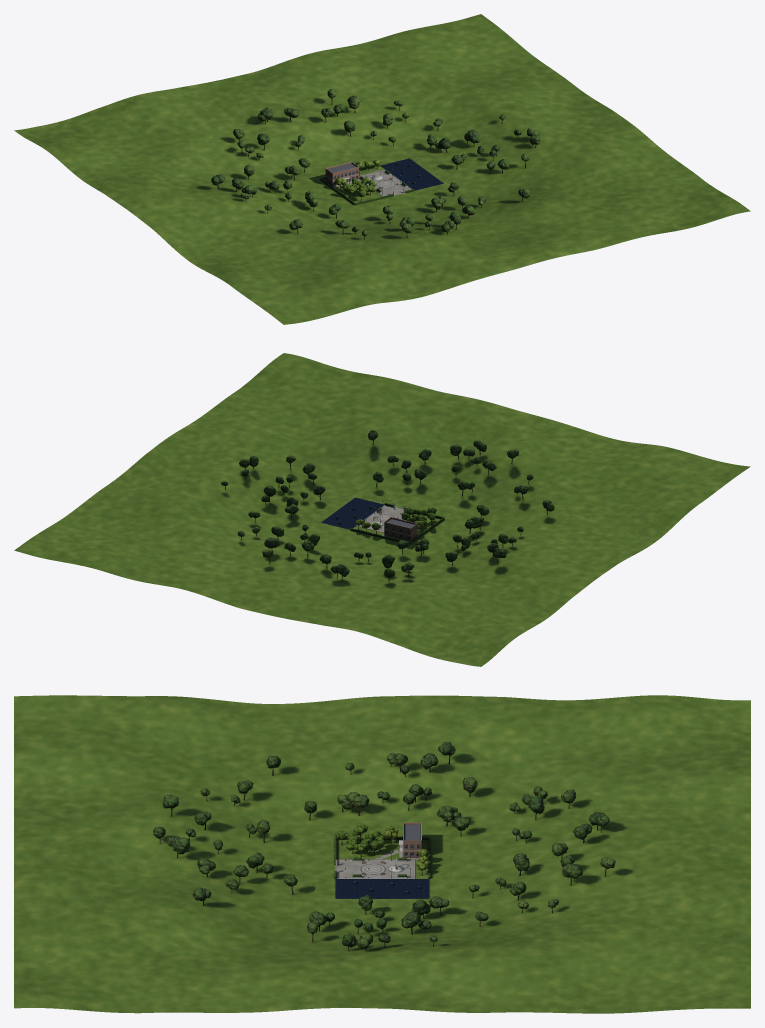
The model's file is plaza.glb.
3 views of the same model, one above another, from view 1: azimuth 30°, elevation 25°; view 2: azimuth 150°, elevation 25°; view 3: azimuth 270°, elevation 25° (orthographic). The views are drawn at different scales.
Parts seen in each view (by area): view 1: BK_outer, BK_fartrees, BK_trees, BK_building; view 2: BK_outer, BK_fartrees, BK_building, BK_trees; view 3: BK_outer, BK_fartrees, BK_trees, BK_building.
Boxes of the visible parts, bbox=[...] form: BK_outer: bbox=[14, 14, 750, 324]; BK_fartrees: bbox=[211, 89, 540, 239]; BK_trees: bbox=[335, 159, 380, 201]; BK_building: bbox=[325, 162, 358, 186]; BK_outer: bbox=[14, 353, 750, 666]; BK_fartrees: bbox=[221, 430, 554, 581]; BK_building: bbox=[384, 517, 417, 541]; BK_trees: bbox=[355, 507, 436, 533]; BK_outer: bbox=[14, 695, 750, 1013]; BK_fartrees: bbox=[153, 742, 615, 951]; BK_trees: bbox=[335, 824, 429, 875]; BK_building: bbox=[399, 822, 421, 858].
Bounding box in the file's own units: 320 × 18.21 × 320.
56 materials, 56 textured.
